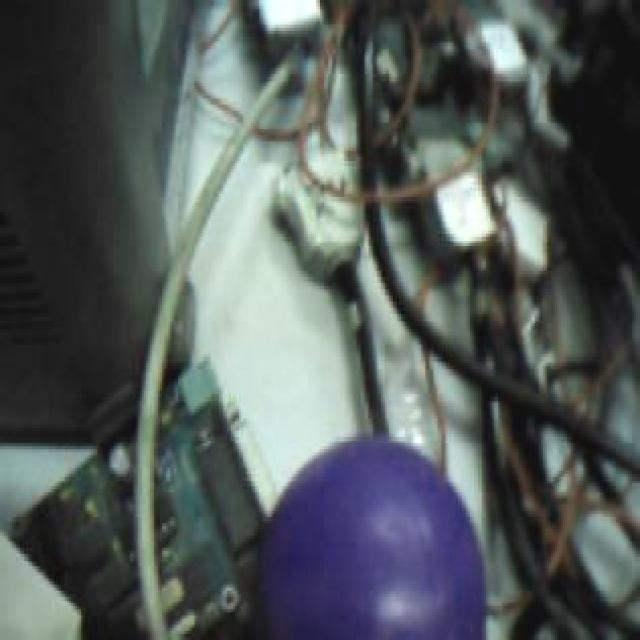BallPurple: (256, 433, 486, 640)
